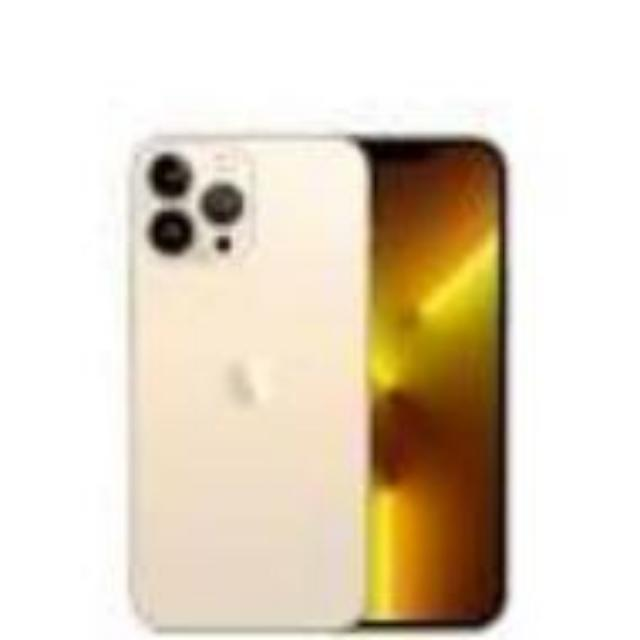phone: (122, 125, 387, 633)
